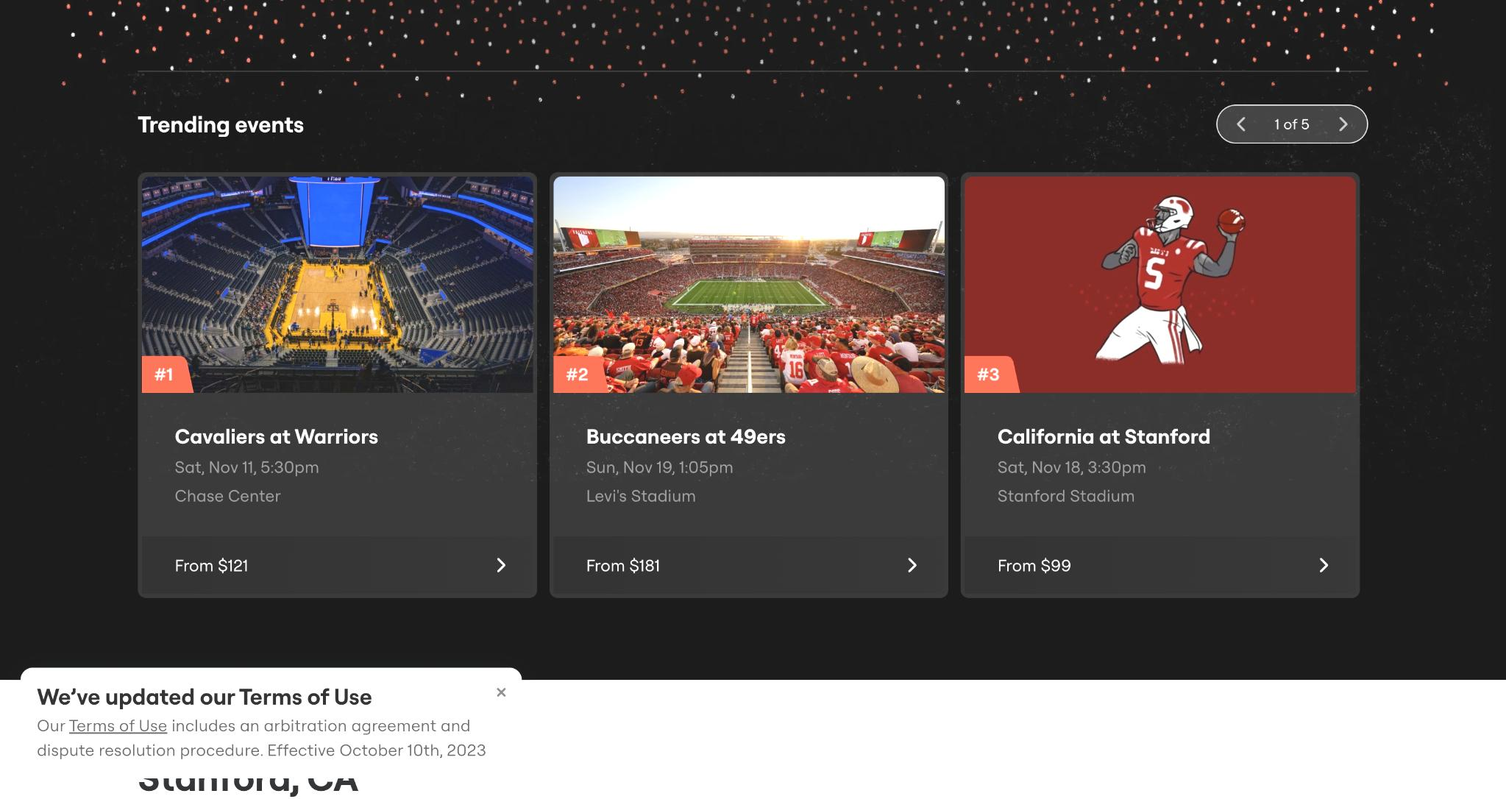webelement: (138, 104, 1368, 597), (549, 171, 948, 597), (960, 171, 1359, 597), (138, 171, 536, 597), (553, 175, 944, 391), (964, 175, 1355, 391), (142, 175, 532, 391), (138, 753, 1368, 799), (19, 667, 521, 777), (138, 720, 1368, 744), (1376, 175, 1506, 391), (36, 712, 513, 761), (36, 679, 371, 711), (402, 695, 669, 732), (402, 733, 669, 770), (440, 31, 706, 68), (440, 104, 706, 141), (440, 141, 706, 178), (440, 179, 706, 216), (440, 252, 706, 289), (440, 289, 706, 326), (440, 326, 706, 363), (440, 363, 706, 400), (440, 400, 706, 437), (440, 437, 706, 474), (440, 474, 706, 511), (440, 548, 706, 585), (440, 585, 706, 622), (440, 658, 706, 695), (440, 68, 706, 104), (440, 216, 706, 252), (440, 511, 706, 547), (440, 622, 706, 658), (997, 482, 1322, 507), (175, 482, 499, 507), (586, 482, 910, 507), (997, 454, 1322, 478), (175, 454, 499, 478), (586, 454, 910, 478), (402, 770, 669, 799), (228, 31, 359, 68), (228, 68, 359, 104), (1408, 453, 1506, 477), (1408, 482, 1506, 506), (68, 714, 166, 734), (174, 554, 248, 574), (586, 554, 659, 574), (997, 554, 1070, 574), (1408, 554, 1476, 574), (1259, 113, 1326, 133), (488, 679, 512, 704), (1230, 111, 1254, 135), (1331, 111, 1355, 135), (1388, 361, 1411, 385), (566, 361, 588, 385), (977, 361, 999, 385), (154, 361, 173, 385)
